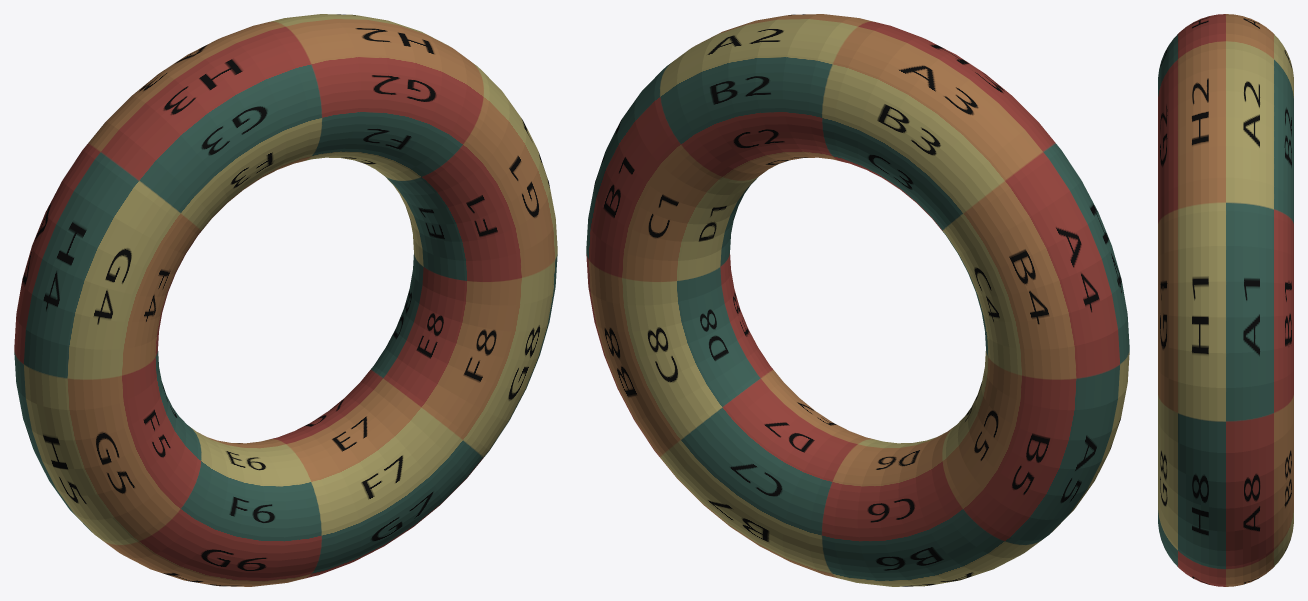
Rendered from texture_torus_R28_r26.glb.
The picture shows the model from 3 angles, left to right: view 1: azimuth 30°, elevation 25°; view 2: azimuth 150°, elevation 25°; view 3: azimuth 270°, elevation 25°; orthographic projection. The views are drawn at different scales.
Visible parts, largest first — view 1: world; view 2: world; view 3: world.
Part boxes in pixels (x1,y1,x2,y2): world: (14, 14, 557, 586); world: (586, 14, 1129, 586); world: (1158, 14, 1293, 586).
Size of the model in its own units: 37.6 by 37.53 by 8.92.
Materials: 1 (1 with a texture image).
